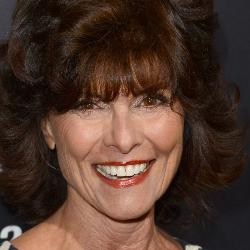face: (5, 3, 240, 225)
